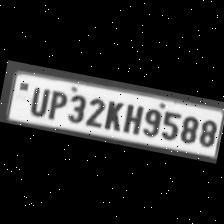2: (83, 93, 107, 128)
3: (63, 90, 88, 124)
5: (158, 106, 182, 142)
8: (176, 112, 200, 146), (196, 115, 220, 148)
9: (140, 103, 162, 138)
H: (120, 100, 144, 136)
K: (100, 96, 125, 132)
P: (44, 87, 68, 121)
U: (26, 84, 50, 118)
